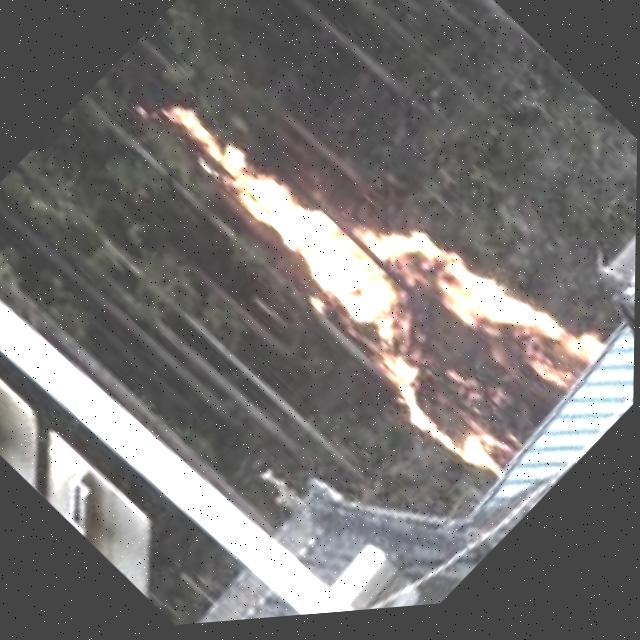Fire: (131, 11, 615, 527)
